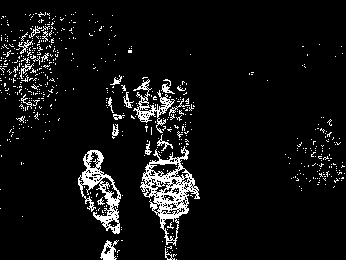person: (140, 141, 200, 260), (76, 147, 123, 259), (106, 74, 130, 139), (175, 79, 193, 142), (134, 77, 154, 132), (156, 78, 174, 133)
